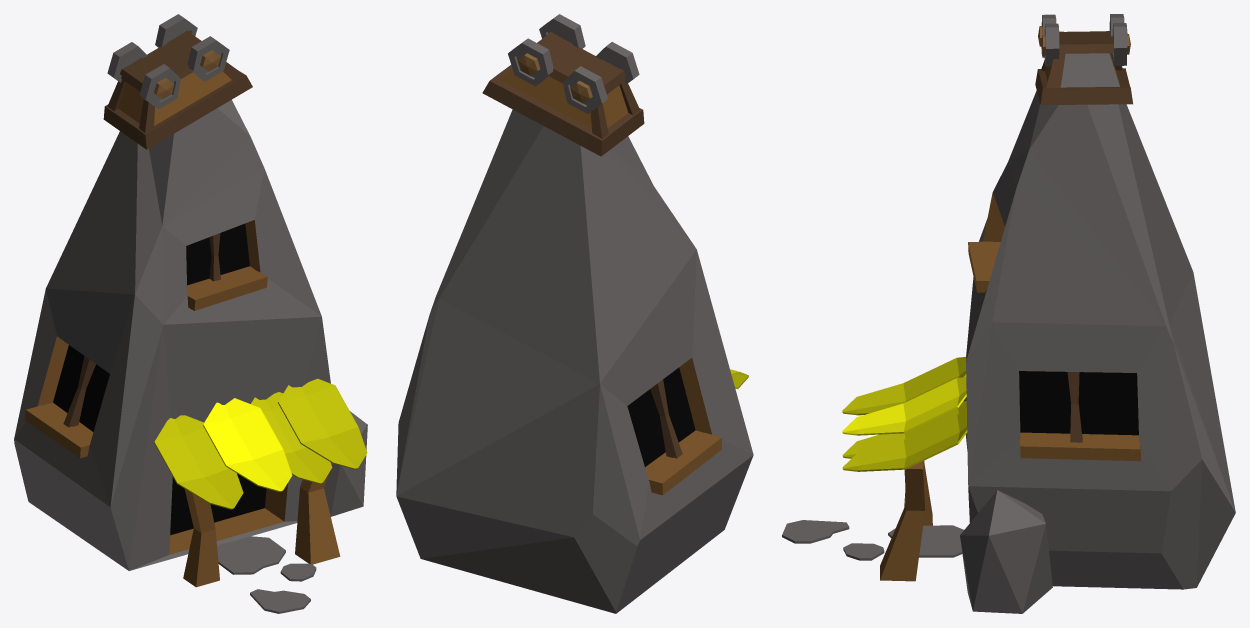
The model's file is Miner_house.fbx.
The picture shows the model from 3 angles, left to right: view 1: azimuth 30°, elevation 25°; view 2: azimuth 150°, elevation 25°; view 3: azimuth 270°, elevation 25°; orthographic projection. The views are drawn at different scales.
Parts seen in each view (by area): view 1: Cube.004; view 2: Cube.004; view 3: Cube.004.
Boxes of the visible parts, x1=… form: Cube.004: x1=14, y1=14, x2=367, y2=613; Cube.004: x1=396, y1=14, x2=753, y2=613; Cube.004: x1=782, y1=14, x2=1235, y2=613.
Size of the model in its own units: 4.69 by 6.14 by 7.99.
